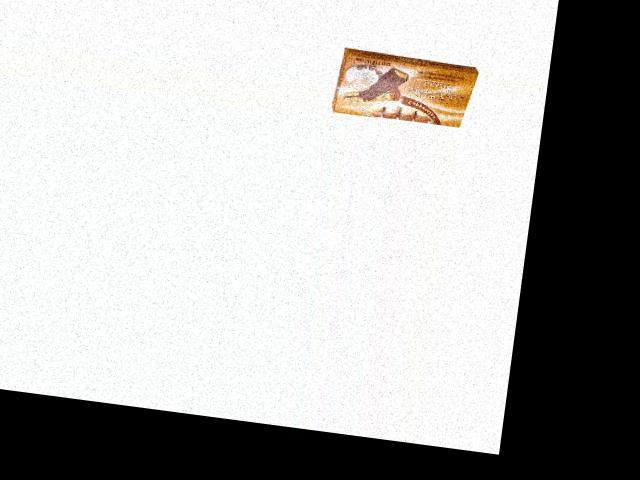chocolate: (330, 46, 482, 131)
